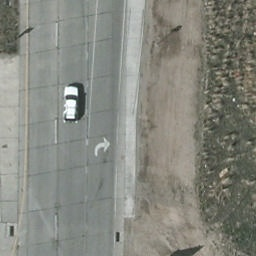car: (63, 85, 79, 126)
